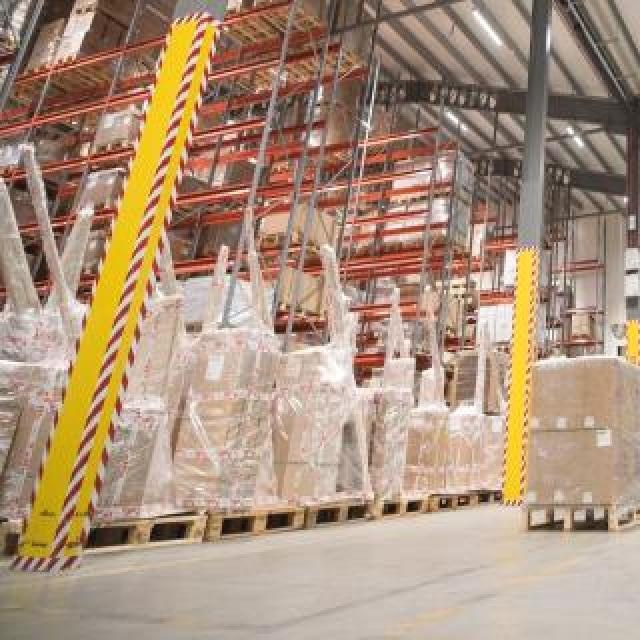fluorescent tube: (444, 0, 518, 60), (427, 96, 475, 149), (557, 102, 595, 156), (626, 0, 640, 38)
